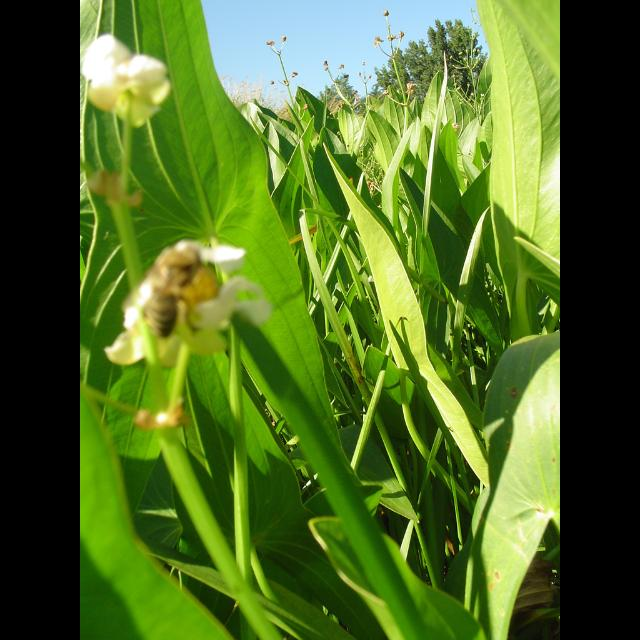Flower: (106, 237, 274, 373), (88, 32, 170, 122)
